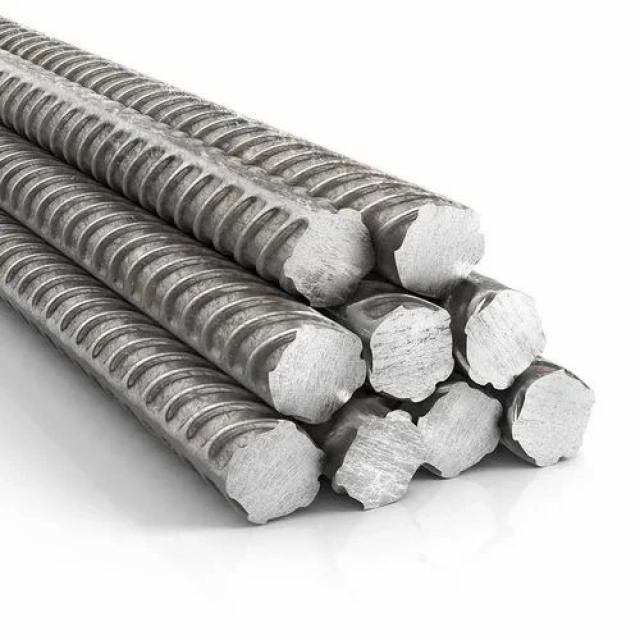Rebar: (216, 411, 330, 526), (277, 192, 381, 302), (397, 190, 493, 301), (262, 323, 371, 419), (456, 288, 553, 389), (330, 413, 429, 511), (418, 376, 515, 476), (371, 302, 461, 402), (520, 370, 595, 461)
